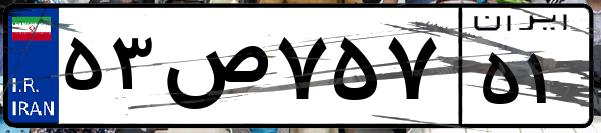1: (525, 38, 570, 115)
3: (110, 28, 158, 98)
5: (330, 28, 385, 110), (57, 26, 110, 100), (475, 38, 525, 113)
7: (270, 28, 330, 110), (385, 28, 445, 110)
ص: (158, 20, 270, 120)
